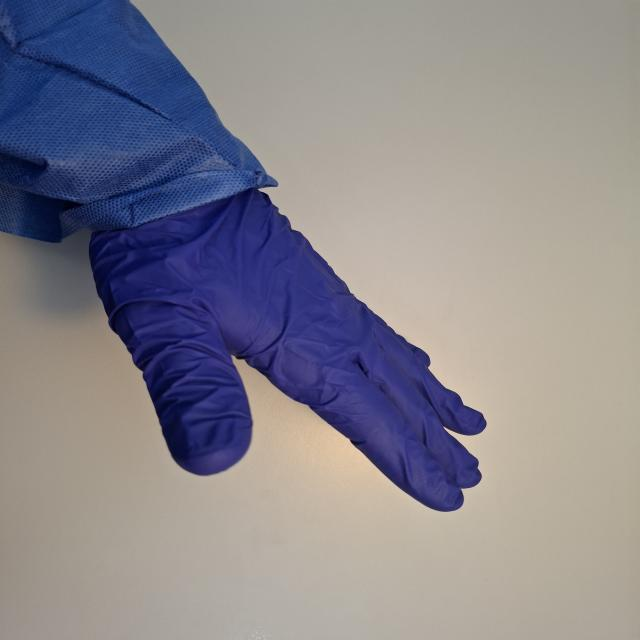glove_on: (84, 182, 490, 514)
